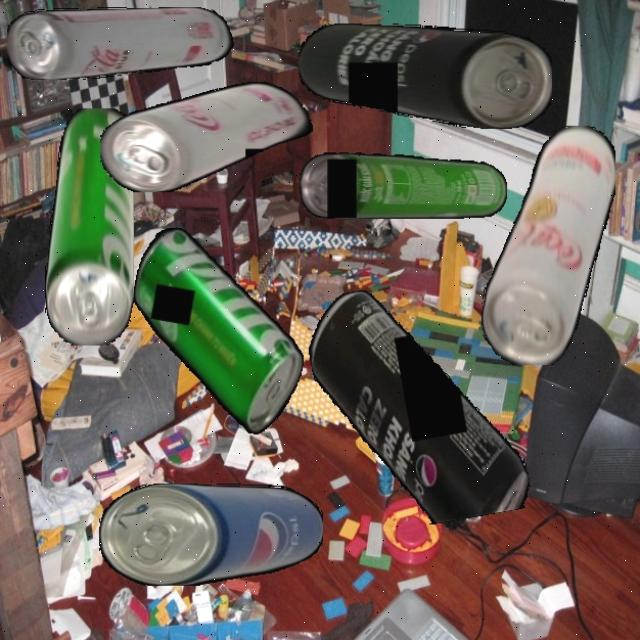debris: (301, 268, 534, 540), (114, 223, 322, 439), (480, 125, 616, 365), (298, 23, 552, 129), (100, 81, 322, 192), (99, 482, 323, 586), (44, 107, 134, 346), (7, 6, 236, 80), (300, 151, 507, 219)
